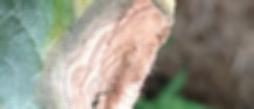Tomato mold leaf: (0, 0, 202, 109)
